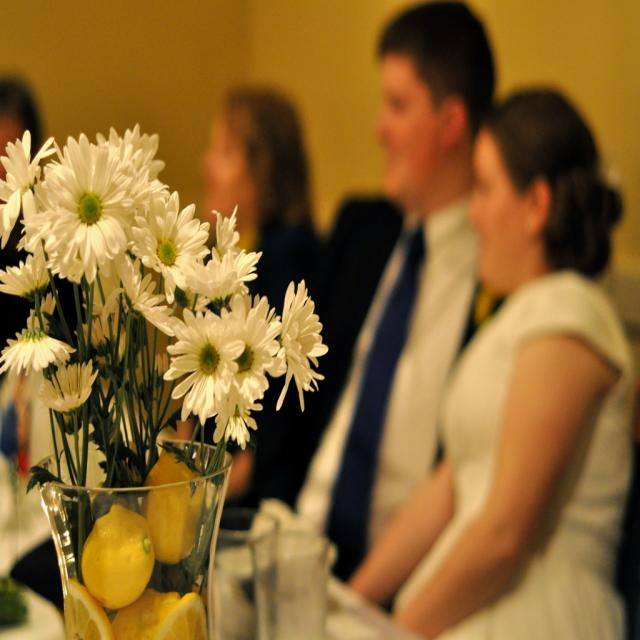Lemon: (140, 446, 210, 563), (81, 502, 155, 607), (110, 590, 180, 640), (64, 578, 112, 639), (153, 593, 208, 639)
